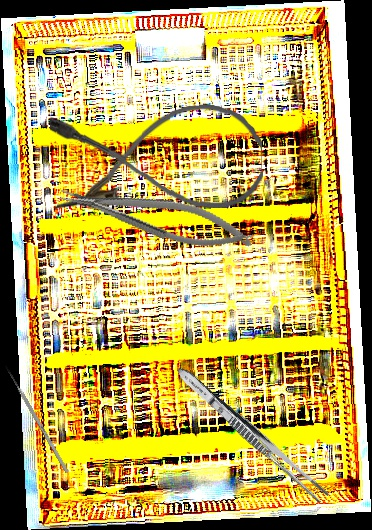Cannula: (49, 102, 264, 214)
Dressing Forceps: (172, 362, 332, 506)
Needle Holder: (56, 169, 257, 263)
Pusher: (4, 364, 69, 474)
